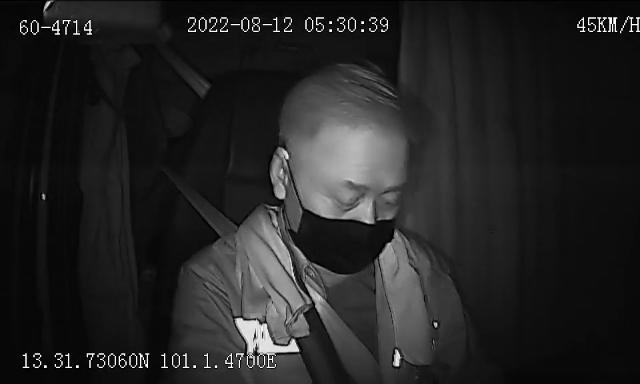Seatbelt: (179, 180, 379, 384)
